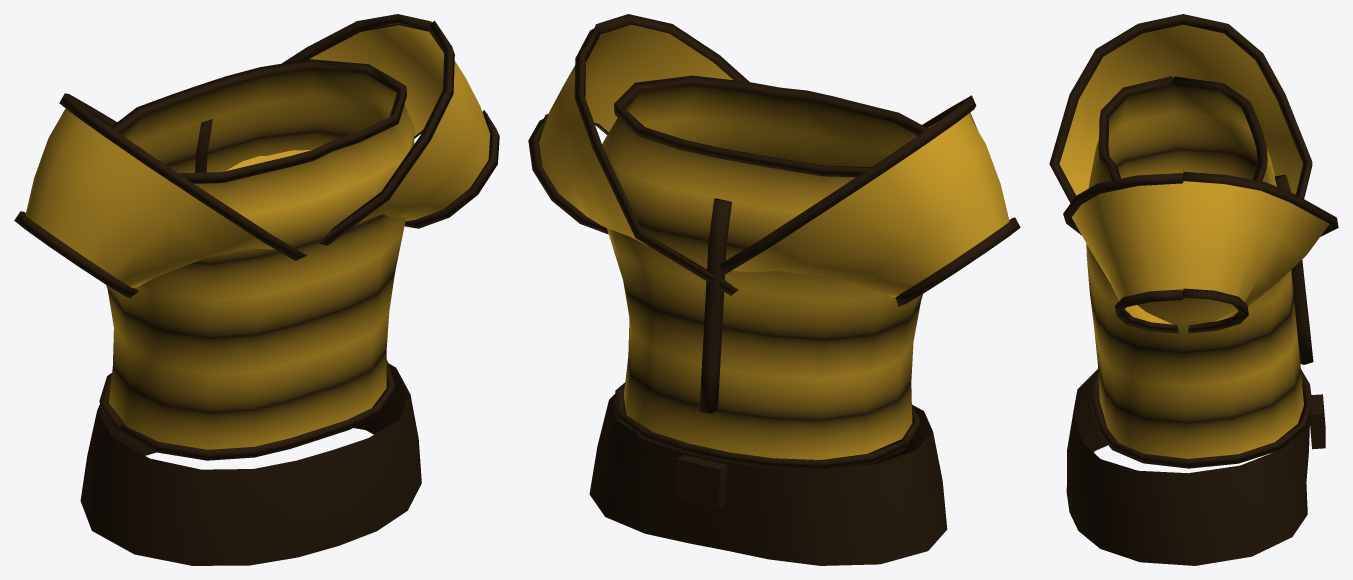
The model's file is bee_breastplate.glb.
3 views of the same model, side by side, from view 1: azimuth 30°, elevation 25°; view 2: azimuth 150°, elevation 25°; view 3: azimuth 270°, elevation 25° (orthographic). The views are drawn at different scales.
Parts seen in each view (by area): view 1: bee_breastplate_chest; view 2: bee_breastplate_chest; view 3: bee_breastplate_chest.
Boxes of the visible parts, x1=… form: bee_breastplate_chest: x1=14, y1=14, x2=499, y2=565; bee_breastplate_chest: x1=528, y1=14, x2=1020, y2=565; bee_breastplate_chest: x1=1049, y1=14, x2=1338, y2=565.
Size of the model in its own units: 0.6477 by 0.592 by 0.3782.
